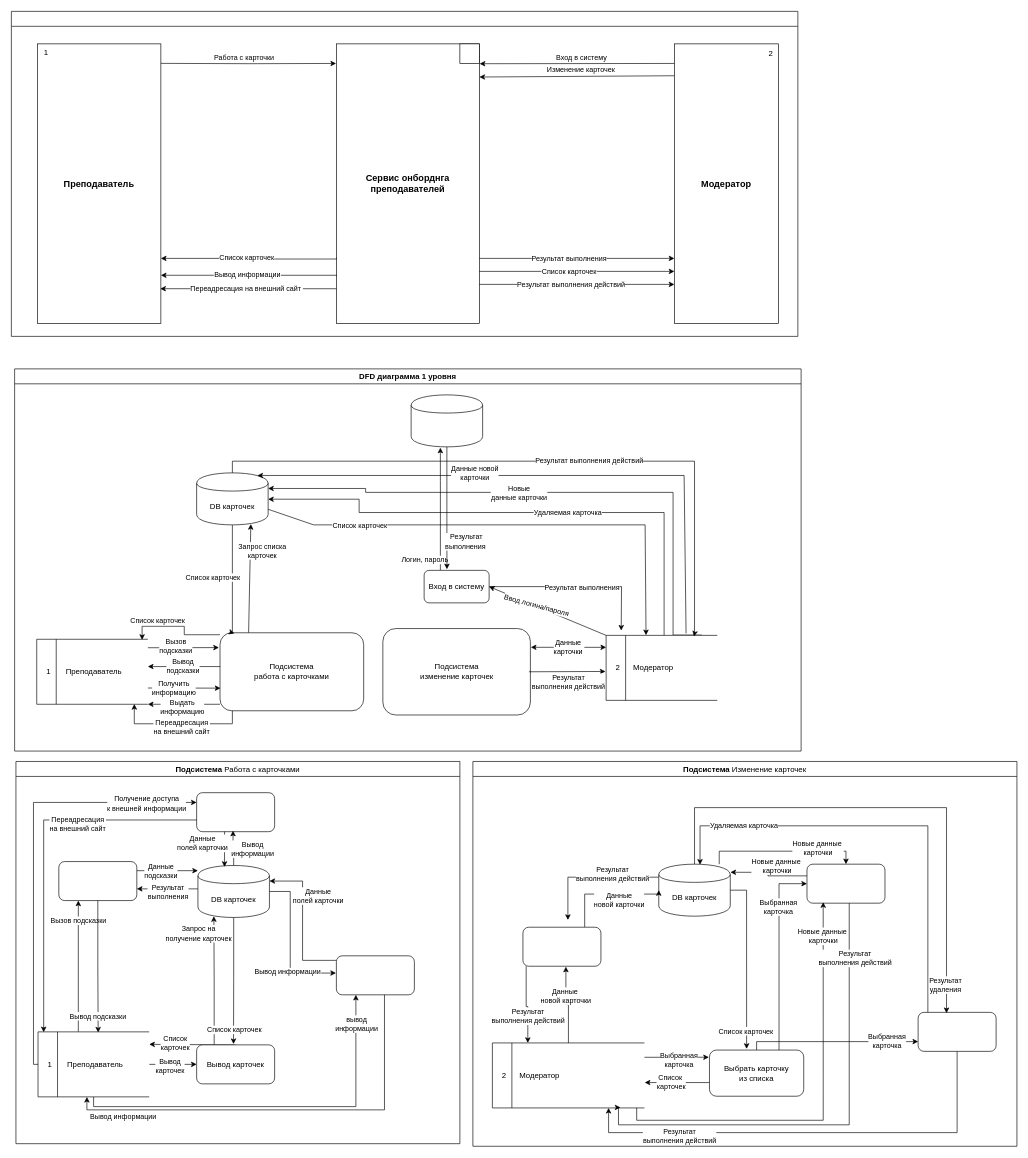
The diagram is 1028 pixels wide and 1158 high, and some of its shapes have lost their labels. Here are the shapes that lost their labels. From the top down, the centre of each, then its label:
point (469, 53): А0
point (404, 173): КОНТЕКСТНАЯ ДИАГРАММА
point (446, 420): DB пользователей
point (235, 812): Переходить по ссылкам внутри карточек
point (97, 881): Посмотреть подсказку
point (845, 883): Редактировать карточку
point (561, 946): Добавить карточку
point (375, 975): Просматривать информацию внутри карточек
point (956, 1031): Удалить карточку
